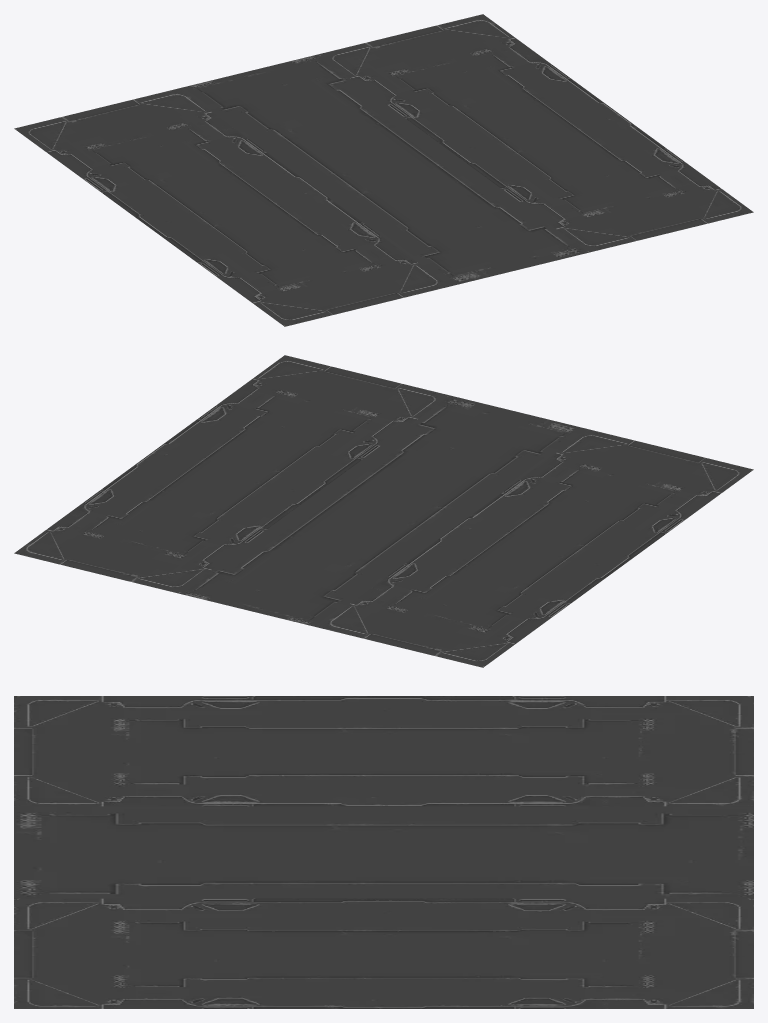
The model's file is fut-placas-escuras.gltf.
3 views of the same model, one above another, from view 1: azimuth 30°, elevation 25°; view 2: azimuth 150°, elevation 25°; view 3: azimuth 270°, elevation 25° (orthographic). The views are drawn at different scales.
Parts seen in each view (by area): view 1: Platform_DarkPlates; view 2: Platform_DarkPlates; view 3: Platform_DarkPlates.
Part boxes in pixels (left/top/right/bottom): Platform_DarkPlates: left=14, top=14, right=753, bottom=326; Platform_DarkPlates: left=14, top=355, right=753, bottom=667; Platform_DarkPlates: left=14, top=696, right=753, bottom=1008.
Bounding box in the file's own units: 1 × 0 × 1.
1 material, 1 textured.
